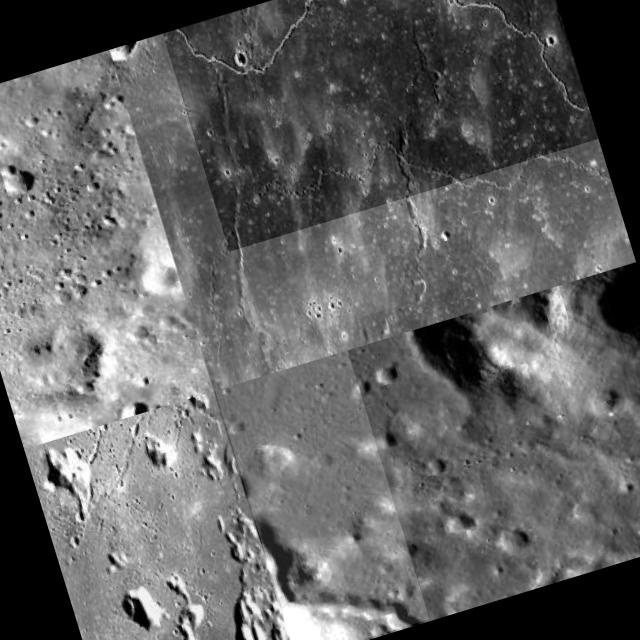crater: (167, 78, 628, 362), (163, 0, 599, 251), (216, 350, 430, 640), (46, 454, 297, 640)
